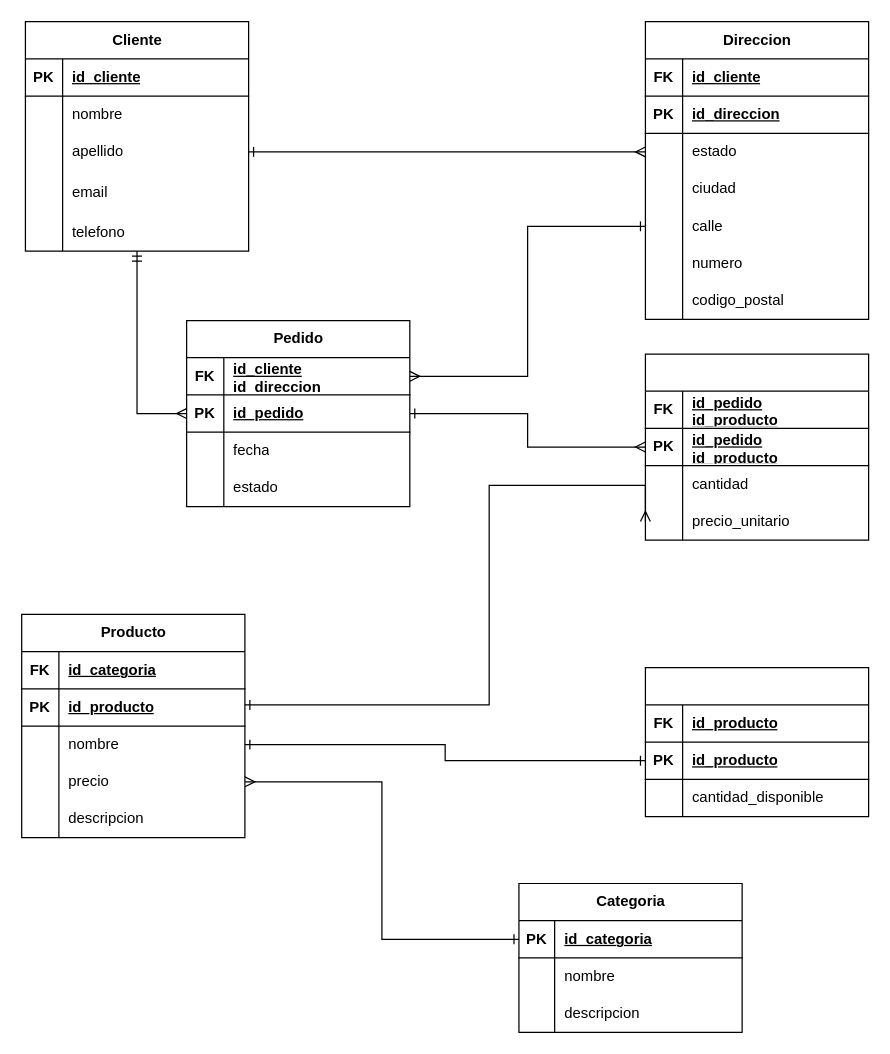
This 890x1054 diagram has some shape labels left out. Each missing label, with the box of its shape:
DetallePedido: (644, 353, 869, 540)
Inventario: (644, 666, 869, 817)
